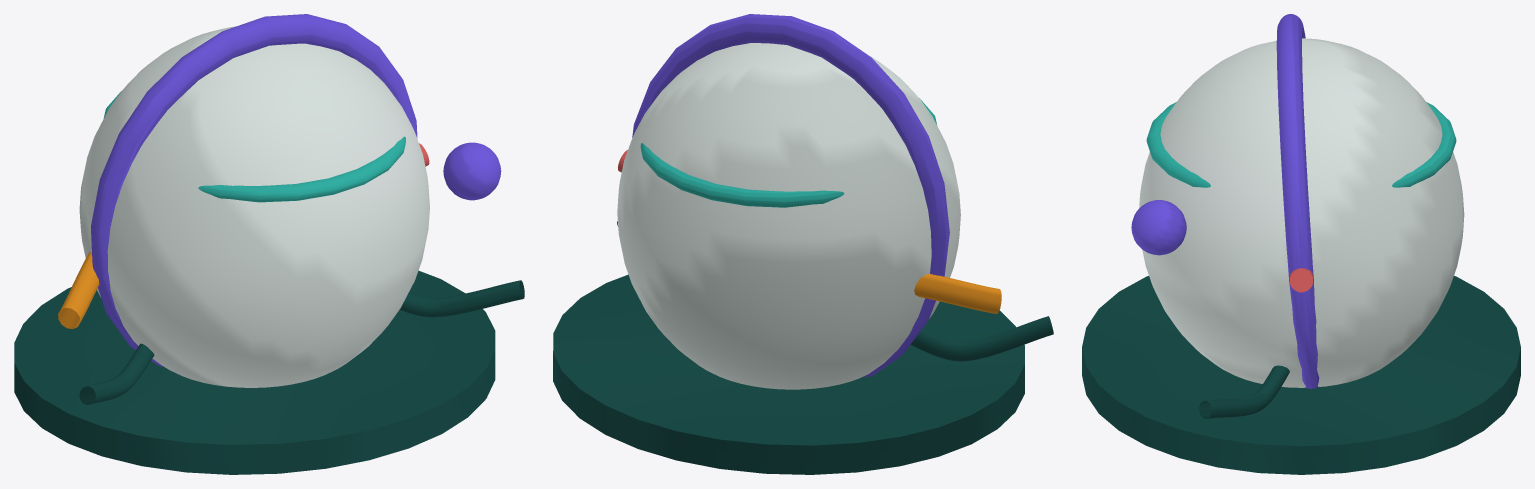
File: 1218_细胞图鉴_植物细胞.glb
3 renders of one model, left to right at view 1: azimuth 30°, elevation 25°; view 2: azimuth 150°, elevation 25°; view 3: azimuth 270°, elevation 25°, orthographic. The views are drawn at different scales.
Parts seen in each view (by area): view 1: card_1218; view 2: card_1218; view 3: card_1218.
Boxes of the visible parts, x1,y1,x2,y2 form: card_1218: (14, 14, 524, 474); card_1218: (553, 14, 1053, 474); card_1218: (1082, 14, 1520, 474).
Bounding box in the file's own units: 1.28 × 1 × 1.14.
